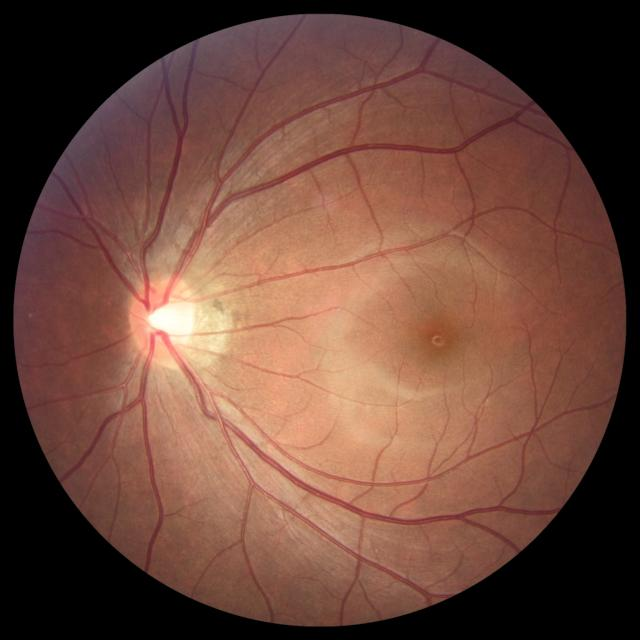OC: (145, 302, 188, 337)
OD: (129, 276, 198, 363)
